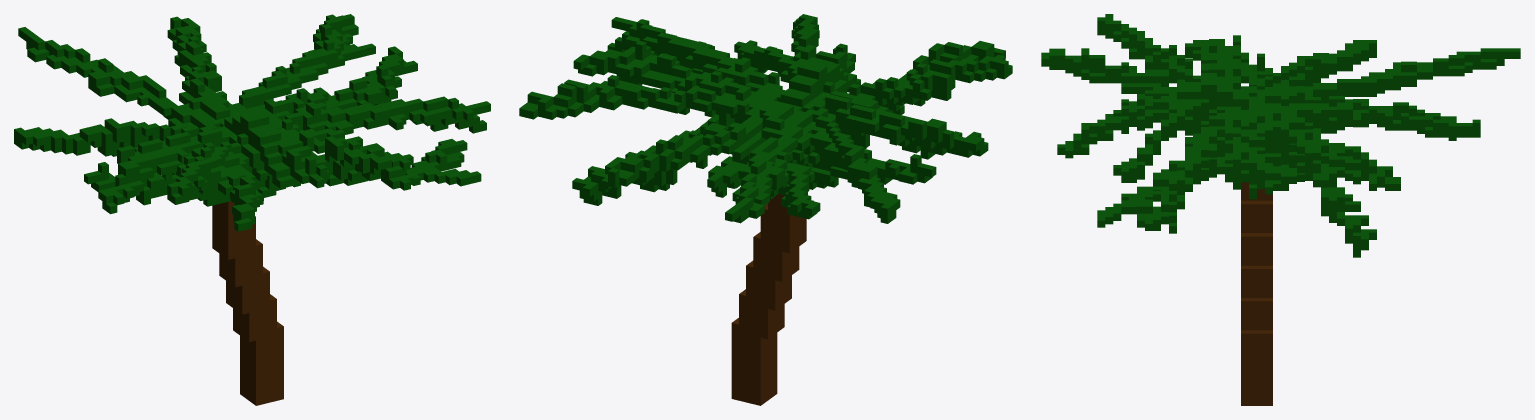
File: Tree3.obj
3 views of the same model, side by side, from view 1: azimuth 30°, elevation 25°; view 2: azimuth 150°, elevation 25°; view 3: azimuth 270°, elevation 25° (orthographic). The views are drawn at different scales.
Bounding box in the file's own units: 5.3 × 4.2 × 6.
1 material, 1 textured.
